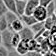cell: (36, 20, 47, 29), (13, 41, 21, 51), (1, 21, 7, 32), (41, 45, 48, 53)
